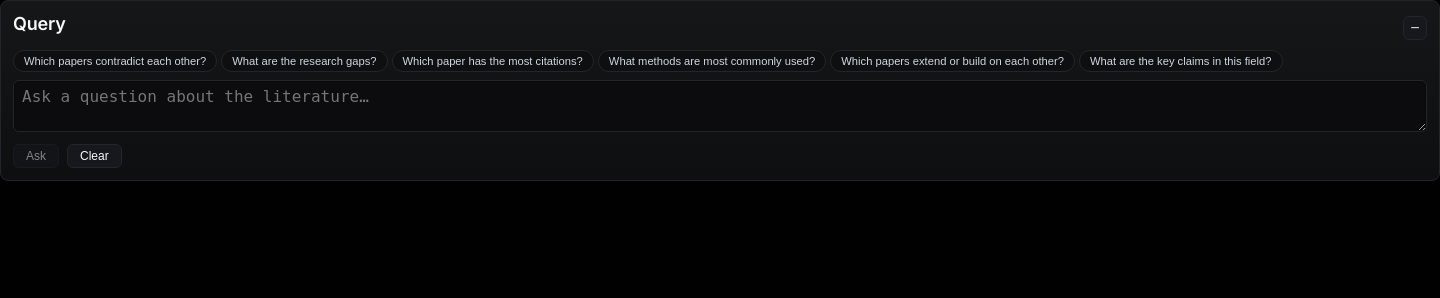
QueryInterface › submits the typed question and renders the answer with supporting edges + time
Type "Which papers contradict 2401.12345?" into the text box with test id "query-input" at (720, 106), box [13,80,1427,132]
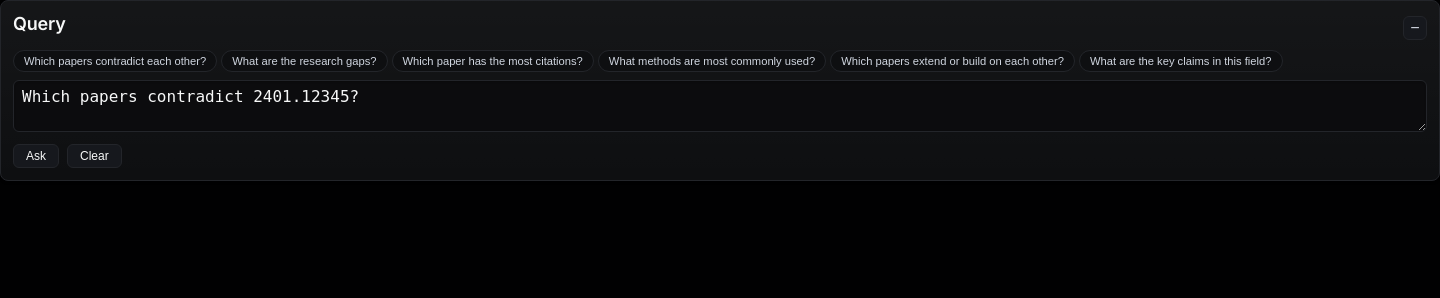
Click the button with test id "query-ask" at (36, 156), box [13,144,59,168]
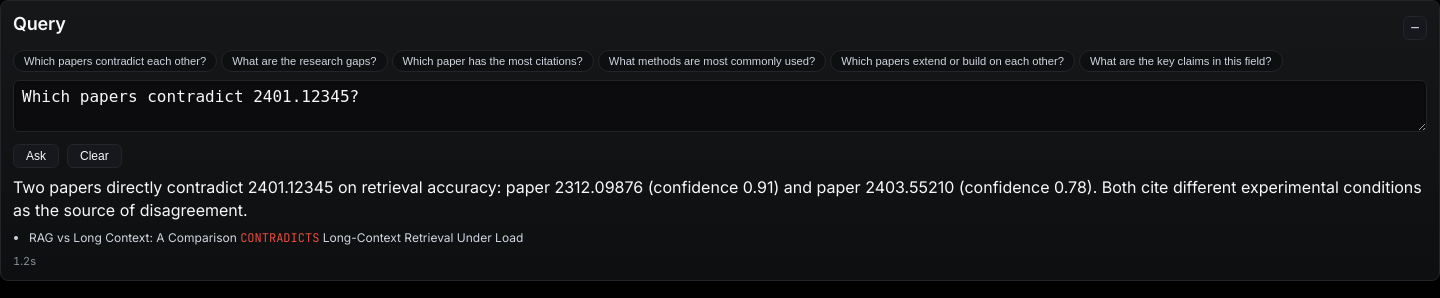
Expected: the text with test id "query-answer" shows "Two papers directly contradict 2401.12345 on retrieval accuracy: paper 2312.09876 (confidence 0.91) and paper 2403.55210 (confidence 0.78). Both cite different", [13,177,1422,220]
Expected: the list with test id "query-edges" shows "CONTRADICTS", [240,230,319,246]
Expected: the text with test id "query-time" reads "1.2s", [13,254,36,268]
